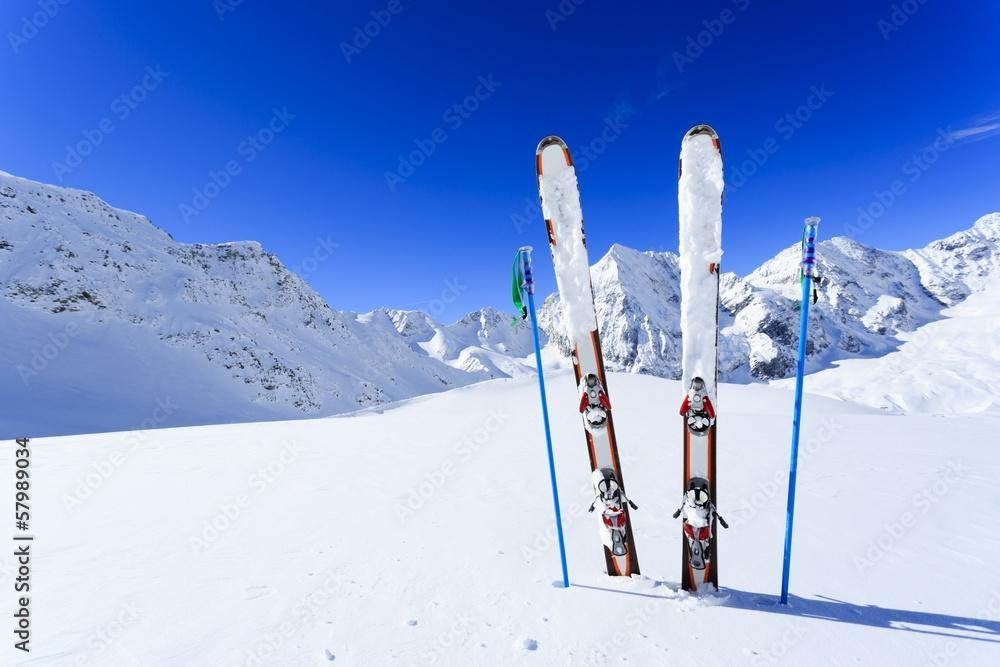Skis: (490, 115, 852, 610)
